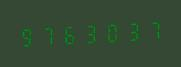nine: (17, 23, 37, 49)
seven: (38, 22, 58, 48), (143, 17, 163, 43)
six: (59, 21, 79, 47)
three: (80, 20, 100, 46), (122, 18, 142, 44)
zero: (101, 19, 121, 45)
